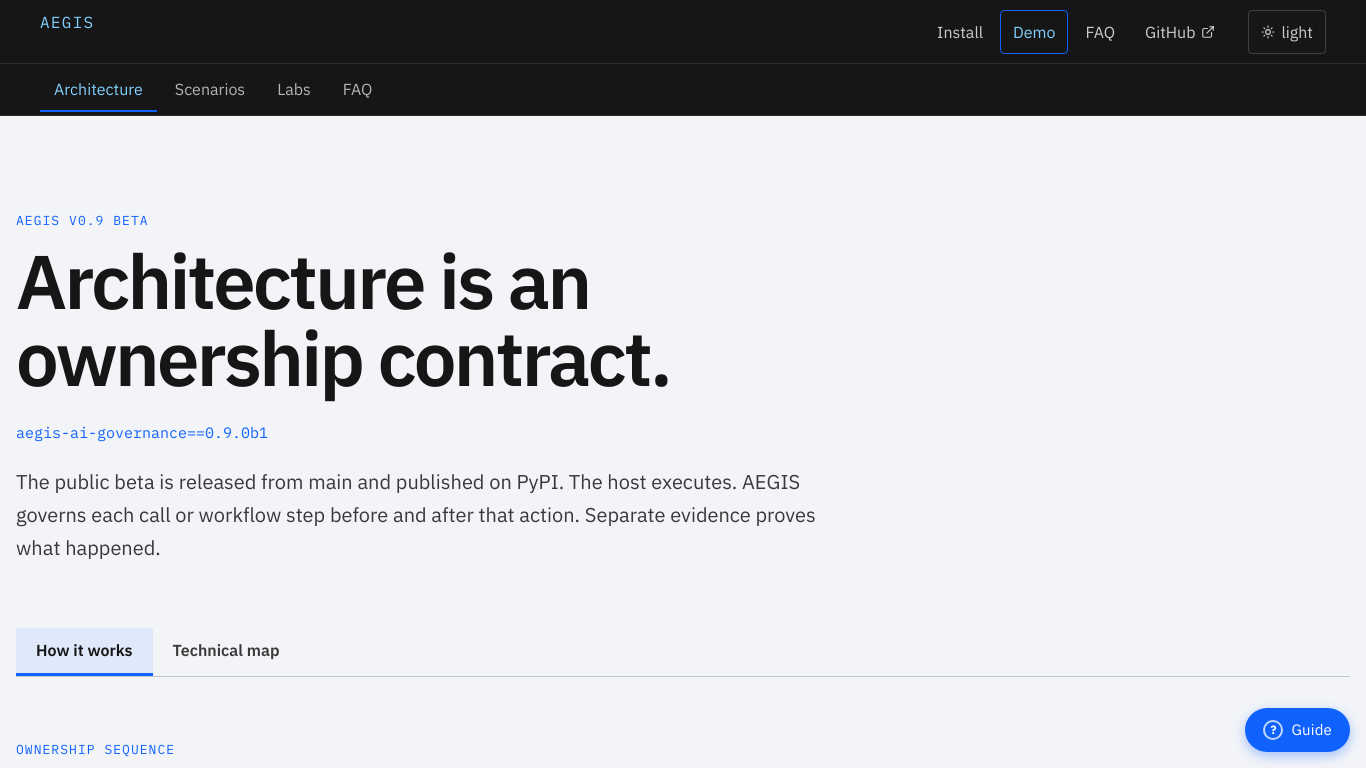
Test case: App routing › derives help from the route instead of defaulting public pages to Lab 1
The width and height of the screenshot is (1366, 768).
Click the button with aria-label "Open lab guide". click: click(1298, 730)
box: [1246, 708, 1350, 752]
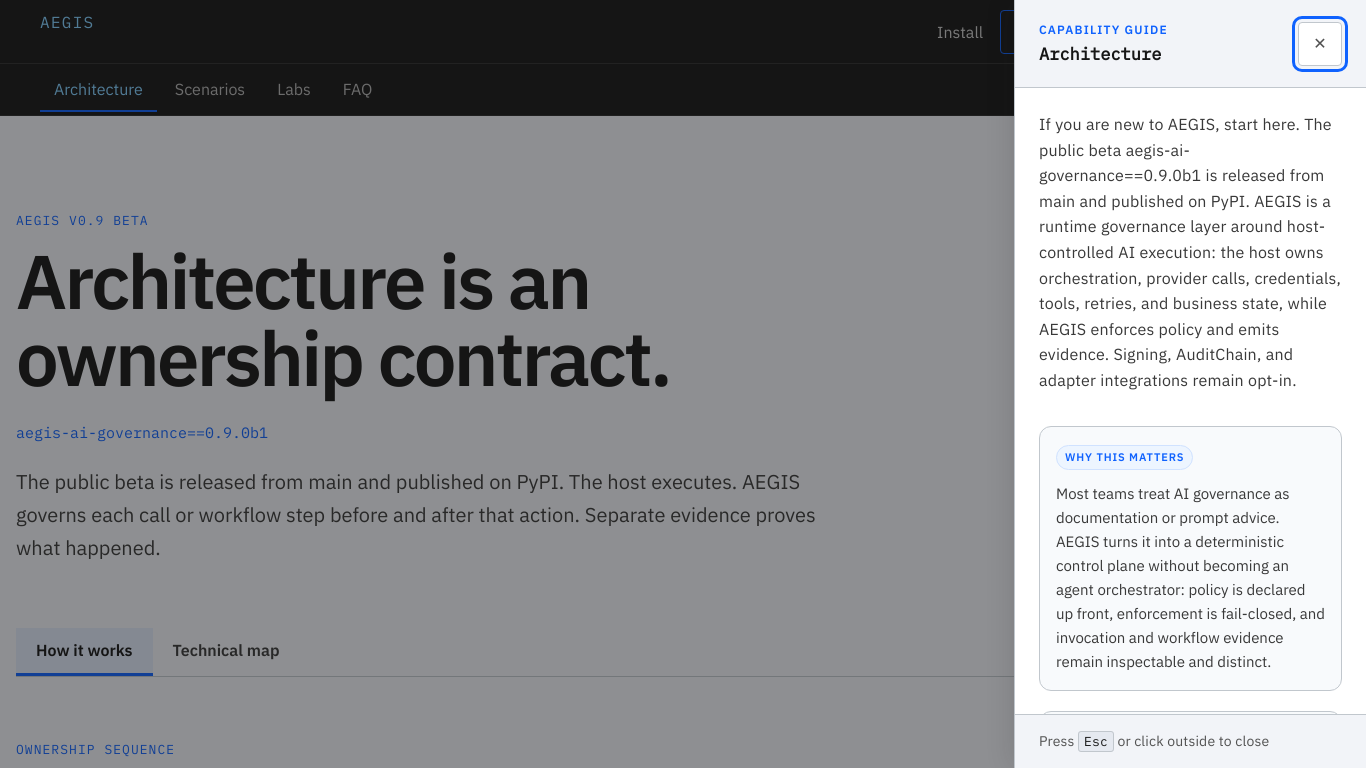
Expected: the dialog "Architecture" is shown, [1014, 0, 1365, 767]
